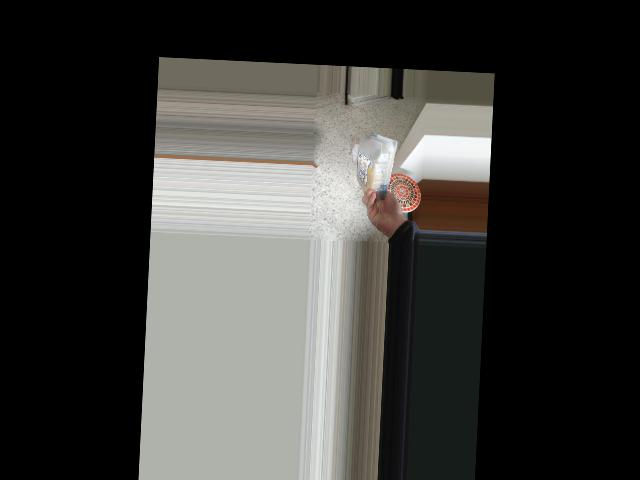cheese: (355, 131, 394, 198)
